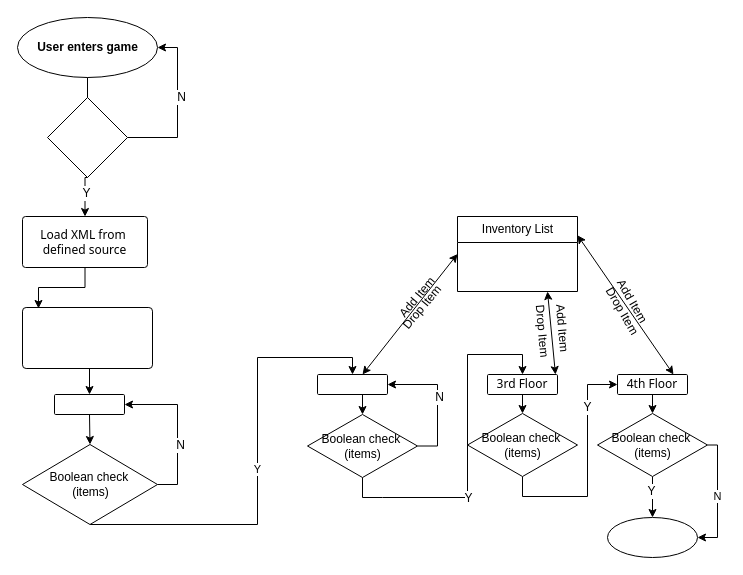
The diagram is 743 pixels wide and 575 high, and some of its shapes have lost their labels. The centre of each missing label's shape, as x and y in pixels:
"1st Floor" belongs at [89,404].
"2nd Floor" belongs at [352,384].
"Game Ends" belongs at [652,537].
"Populate game with data from XML file" belongs at [87,337].
"Title with prompt" belongs at [87,137].
